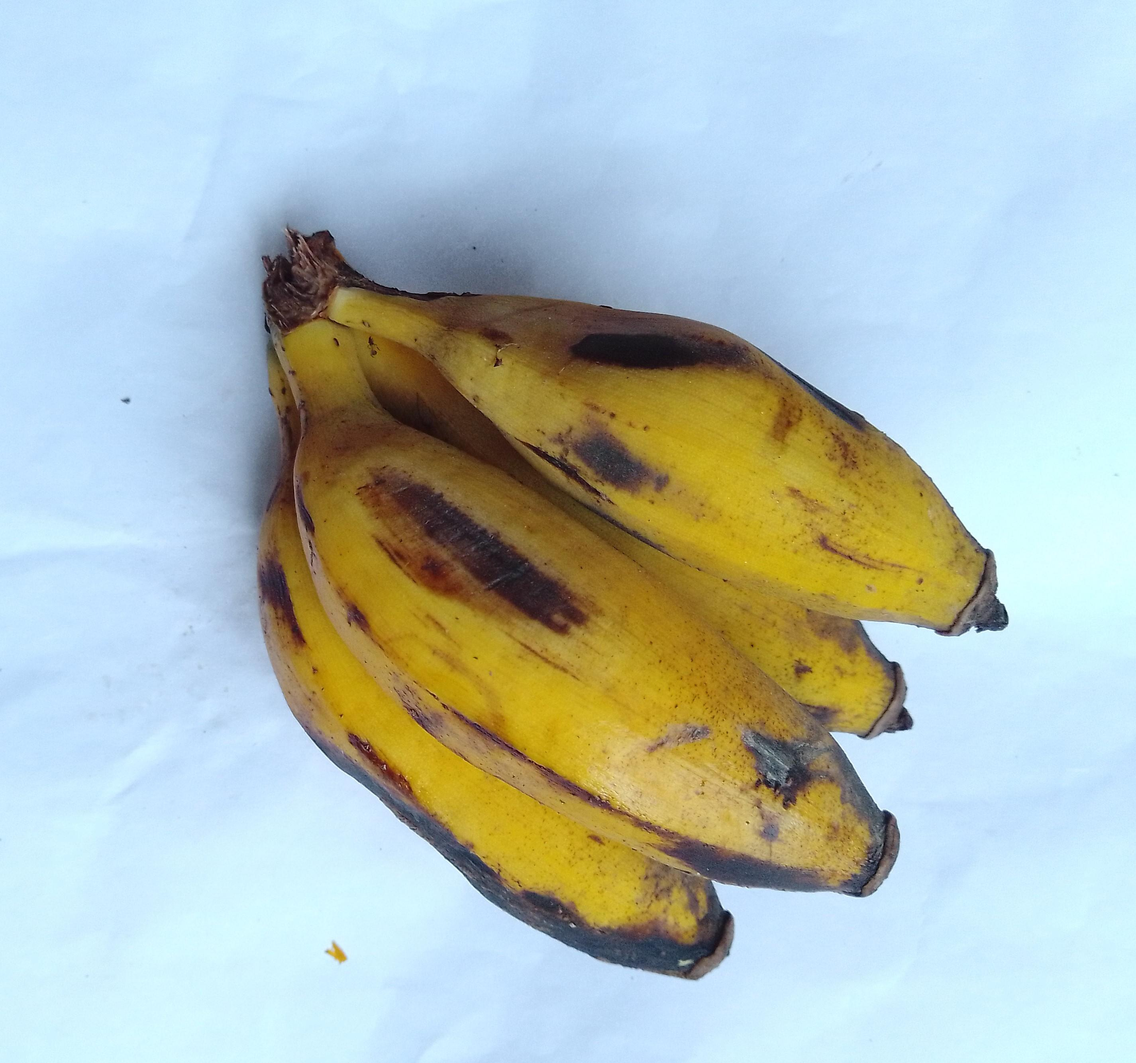Banana Ripe: (193, 370, 996, 990)
